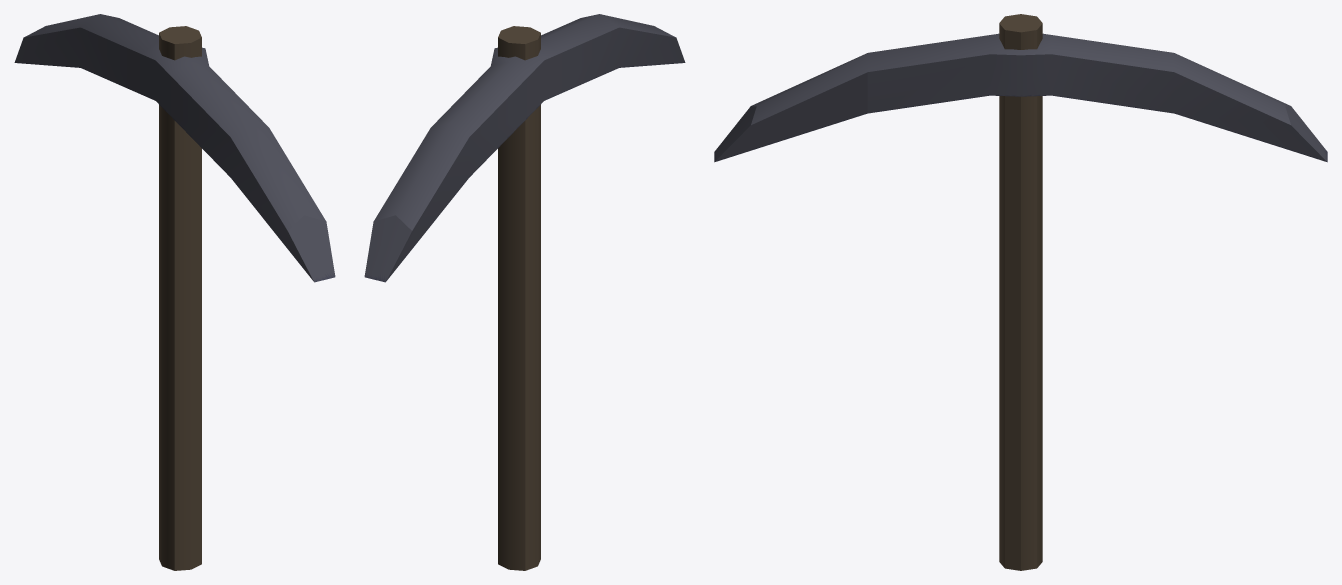
Rendered from Pick.fbx.
3 renders of one model, left to right at view 1: azimuth 30°, elevation 25°; view 2: azimuth 150°, elevation 25°; view 3: azimuth 270°, elevation 25°, orthographic. The views are drawn at different scales.
Parts seen in each view (by area): view 1: Tools_pCube3Pickaxe, Tools_PickaxepCube2; view 2: Tools_pCube3Pickaxe, Tools_PickaxepCube2; view 3: Tools_pCube3Pickaxe, Tools_PickaxepCube2.
Boxes of the visible parts, left/top/right/bottom form: Tools_pCube3Pickaxe: left=14, top=14, right=335, bottom=282; Tools_PickaxepCube2: left=159, top=26, right=201, bottom=570; Tools_pCube3Pickaxe: left=364, top=14, right=685, bottom=282; Tools_PickaxepCube2: left=498, top=26, right=540, bottom=570; Tools_pCube3Pickaxe: left=714, top=33, right=1327, bottom=162; Tools_PickaxepCube2: left=999, top=14, right=1042, bottom=570.
Size of the model in its own units: 0.6277 by 6.35 by 6.55.
